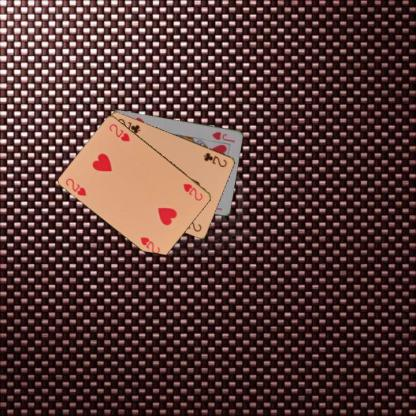2c: (201, 150, 228, 168)
2h: (63, 176, 88, 197), (181, 181, 204, 202)
Jh: (210, 129, 236, 144)
